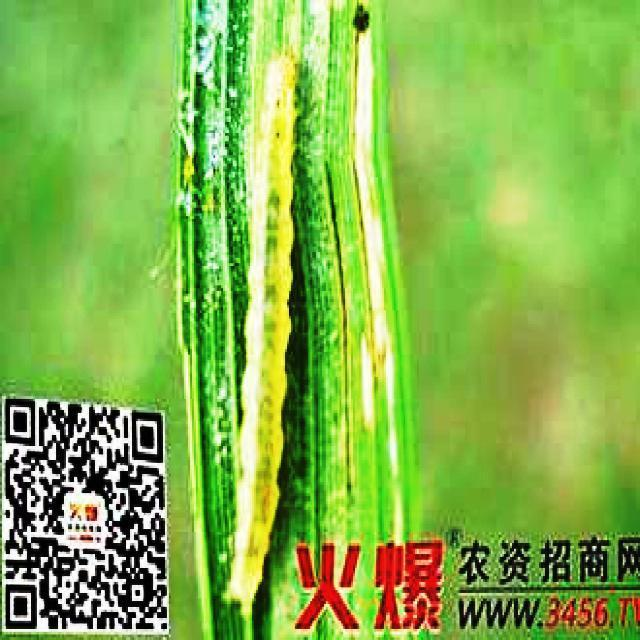leaf-folder: (210, 44, 310, 612)
